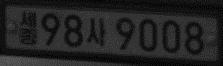0: (138, 17, 159, 53), (161, 18, 181, 54)
8: (62, 13, 84, 48), (184, 19, 204, 55)
9: (114, 15, 136, 50), (40, 12, 60, 47)
사: (86, 16, 107, 47)
세종_V: (18, 9, 37, 46)
